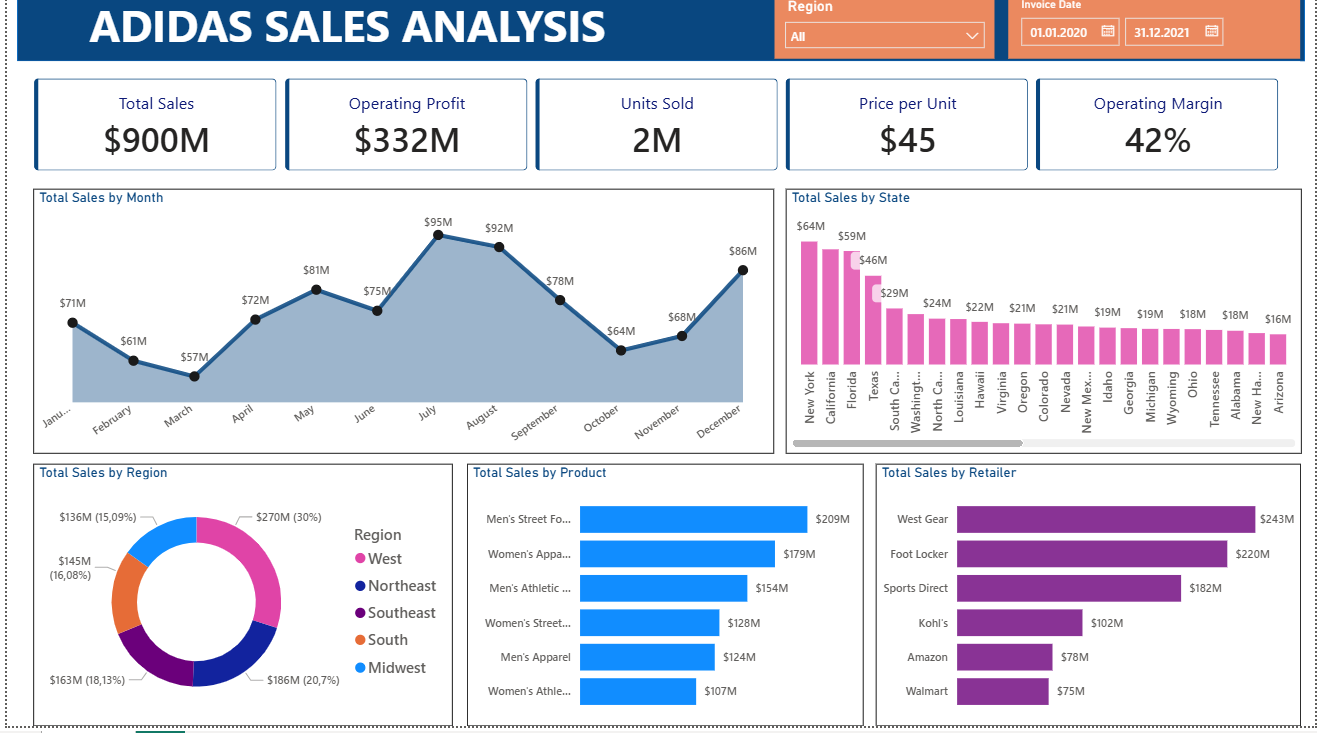

Layout of this report page (visuals, bound fields, positions):
{"tool":"powerbi","page":{"name":"Page 1","canvas":[1280,720],"ordinal":0},"visuals":[{"type":"shape","box":[9.6,0,1260,70],"z":0},{"type":"textbox","box":[49.4,0,568.1,70],"z":1},{"type":"cardVisual","fields":{"Data":["Sum(Data Sales Adidas.Total Sales)","Sum(Data Sales Adidas.Operating Profit)","Sum(Data Sales Adidas.Units Sold)","Avg(Data Sales Adidas.Price per Unit)","Avg(Data Sales Adidas.Operating Margin)"]},"box":[9.6,70,1255.6,124.9],"z":2},{"type":"areaChart","title":"Total Sales by Month","fields":{"Category":["Data Sales Adidas.Invoice Date.Variation.Date Hierarchy.Month"],"Y":["Sum(Data Sales Adidas.Total Sales)"]},"box":[26.1,194.9,724.5,259.3],"z":3},{"type":"donutChart","fields":{"Y":["Sum(Data Sales Adidas.Total Sales)"],"Category":["Data Sales Adidas.Region"]},"box":[26.1,463.8,410,256.6],"z":5},{"type":"barChart","fields":{"Category":["Data Sales Adidas.Product"],"Y":["Sum(Data Sales Adidas.Total Sales)"]},"box":[450.1,463.8,388.3,256.6],"z":6},{"type":"barChart","fields":{"Y":["Sum(Data Sales Adidas.Total Sales)"],"Category":["Data Sales Adidas.Retailer"]},"box":[849.4,463.8,415.8,256.6],"z":7},{"type":"slicer","fields":{"Values":["Data Sales Adidas.Region"]},"box":[750.6,2.7,215.4,64.5],"z":8},{"type":"slicer","fields":{"Values":["Data Sales Adidas.Invoice Date"]},"box":[979.8,2.7,285.4,64.5],"z":9},{"type":"lineClusteredColumnComboChart","fields":{"Y":["Sum(Data Sales Adidas.Total Sales)"],"Category":["Data Sales Adidas.State"]},"box":[761.6,194.9,505,259.3],"z":10}]}

Visuals, with their boxes in screenshot pixels (x1, y1, x2, y2), scaled from the page's 1280x720 canvas onto the 1317x733 screenshot:
shape: left=10, top=0, right=1306, bottom=71
textbox: left=51, top=0, right=635, bottom=71
cardVisual - Sum(Data Sales Adidas.Total Sales) x Sum(Data Sales Adidas.Operating Profit): left=10, top=71, right=1302, bottom=198
"Total Sales by Month" areaChart: left=27, top=198, right=772, bottom=462
donutChart - Sum(Data Sales Adidas.Total Sales) x Data Sales Adidas.Region: left=27, top=472, right=449, bottom=732
barChart - Data Sales Adidas.Product x Sum(Data Sales Adidas.Total Sales): left=463, top=472, right=863, bottom=732
barChart - Sum(Data Sales Adidas.Total Sales) x Data Sales Adidas.Retailer: left=874, top=472, right=1302, bottom=732
slicer - Data Sales Adidas.Region: left=772, top=3, right=994, bottom=68
slicer - Data Sales Adidas.Invoice Date: left=1008, top=3, right=1302, bottom=68
lineClusteredColumnComboChart - Sum(Data Sales Adidas.Total Sales) x Data Sales Adidas.State: left=784, top=198, right=1303, bottom=462
